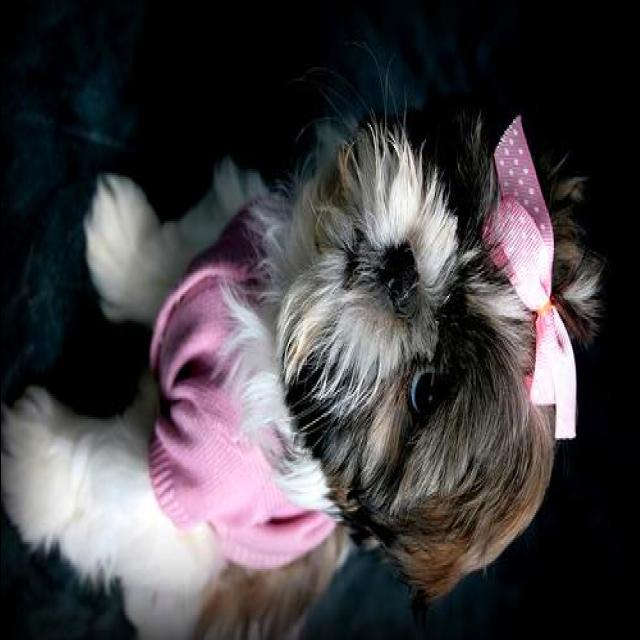shih_tzu: (2, 119, 598, 636)
